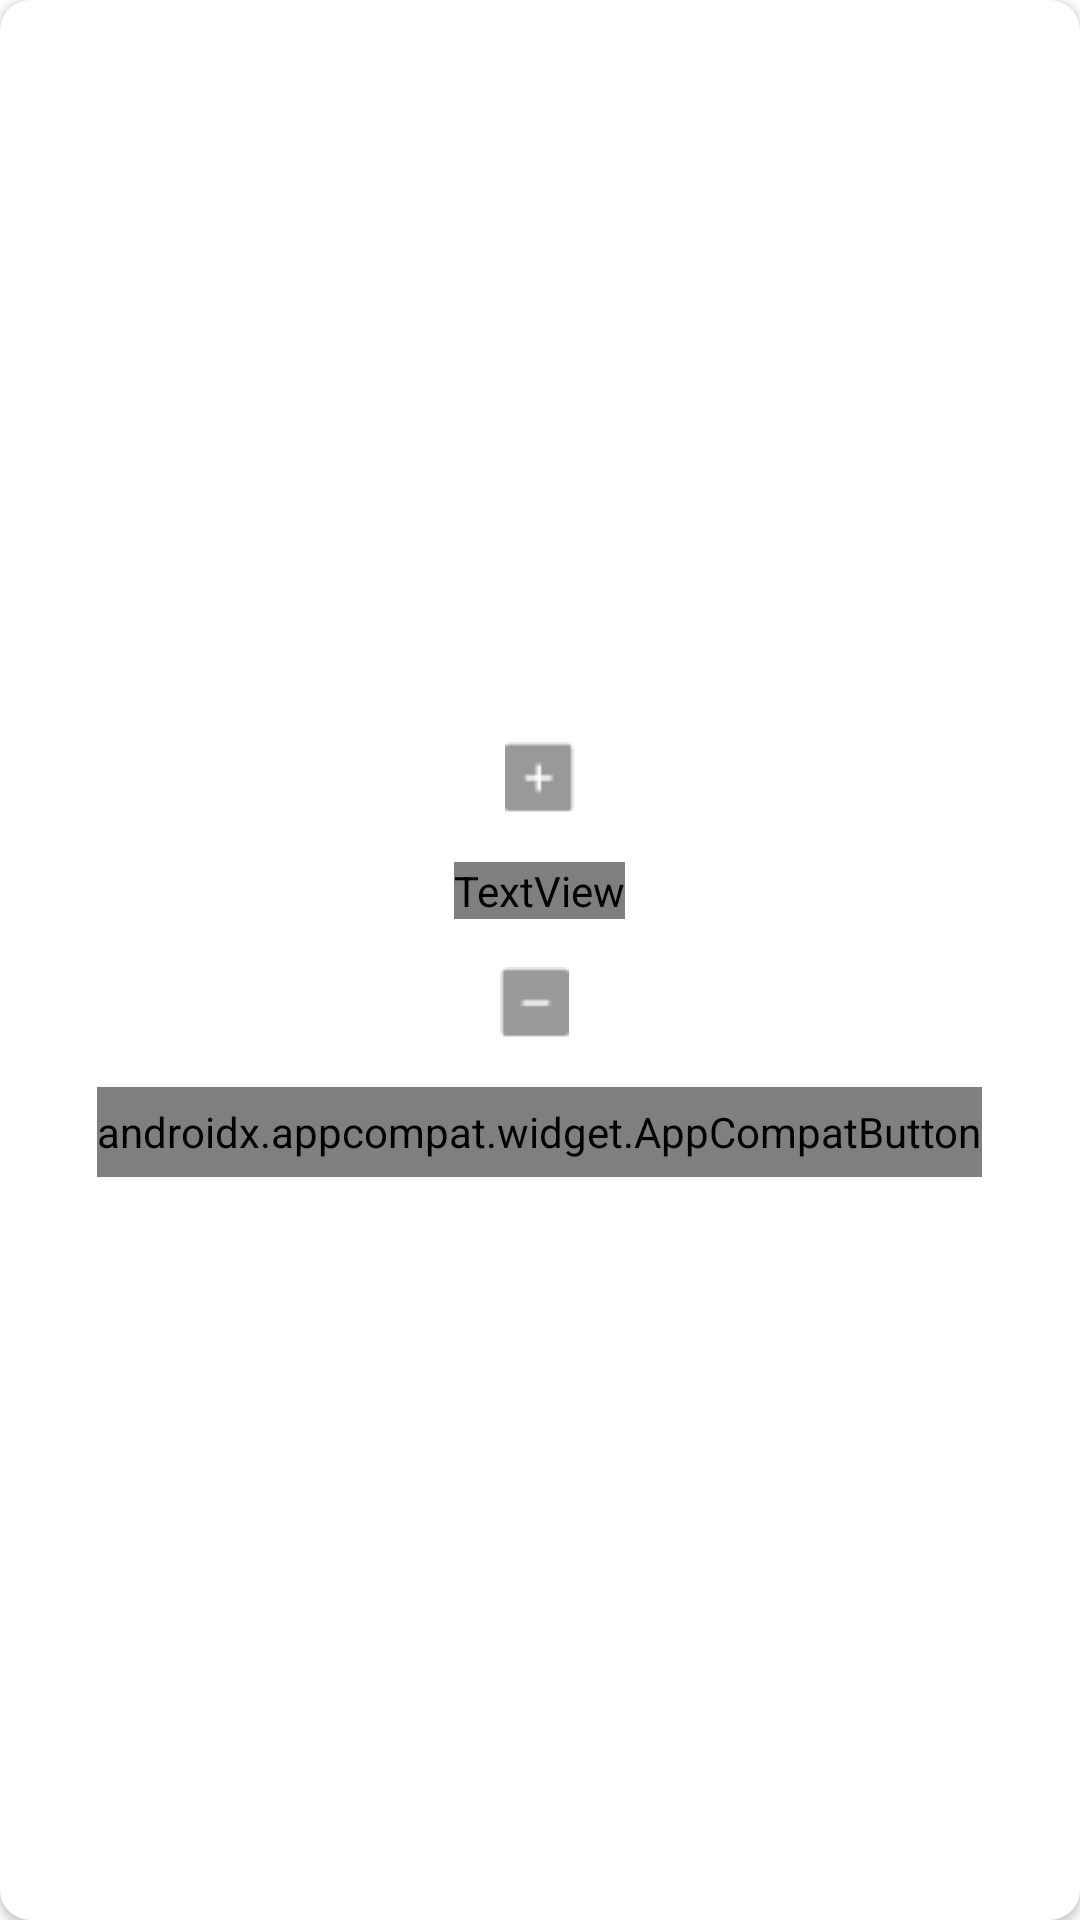

Icon bounding boxes for this 1080×1920 phone screenshot, format (left=x1, top=y1, right=x2, bottom=y2):
minus: (left=500, top=967, right=569, bottom=1037)
plus: (left=505, top=742, right=574, bottom=812)
